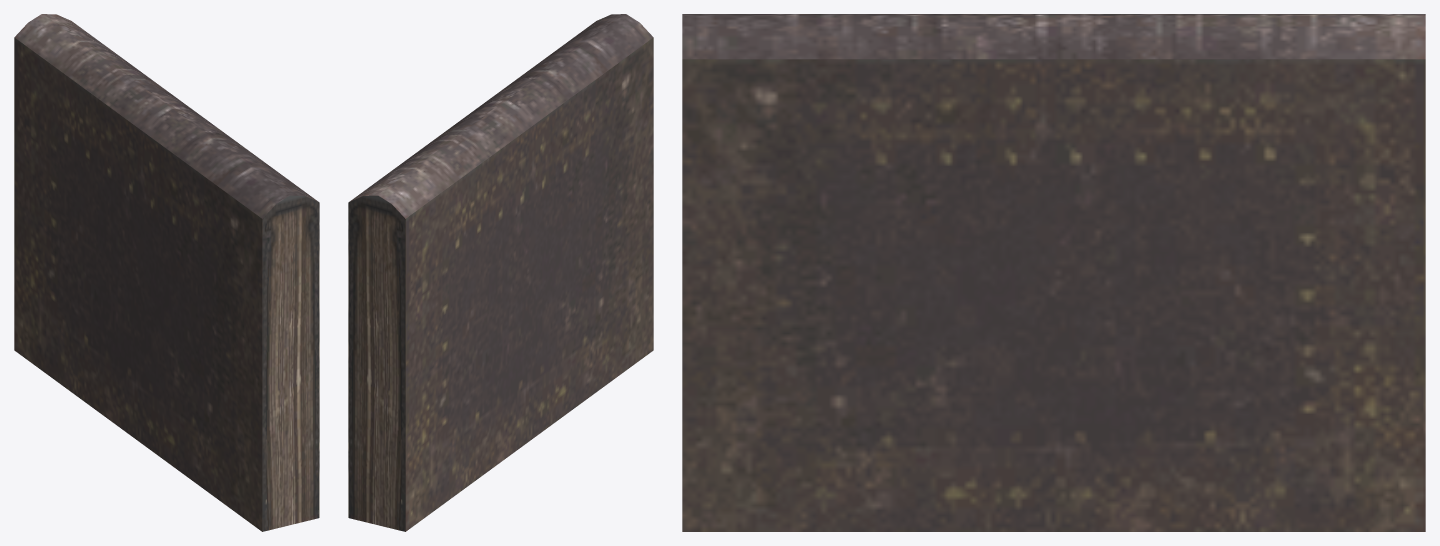
The model's file is p_glo_books_single_LOD0.obj.
The picture shows the model from 3 angles, left to right: view 1: azimuth 30°, elevation 25°; view 2: azimuth 150°, elevation 25°; view 3: azimuth 270°, elevation 25°; orthographic projection. The views are drawn at different scales.
Visible parts, largest first — view 1: mtl_p_glo_books; view 2: mtl_p_glo_books; view 3: mtl_p_glo_books.
Part boxes in pixels (<box>): mtl_p_glo_books: <box>14,14,319,531</box>; mtl_p_glo_books: <box>348,14,653,531</box>; mtl_p_glo_books: <box>682,14,1425,531</box>.
Size of the model in its own units: 4.31 by 23.74 by 32.37.
